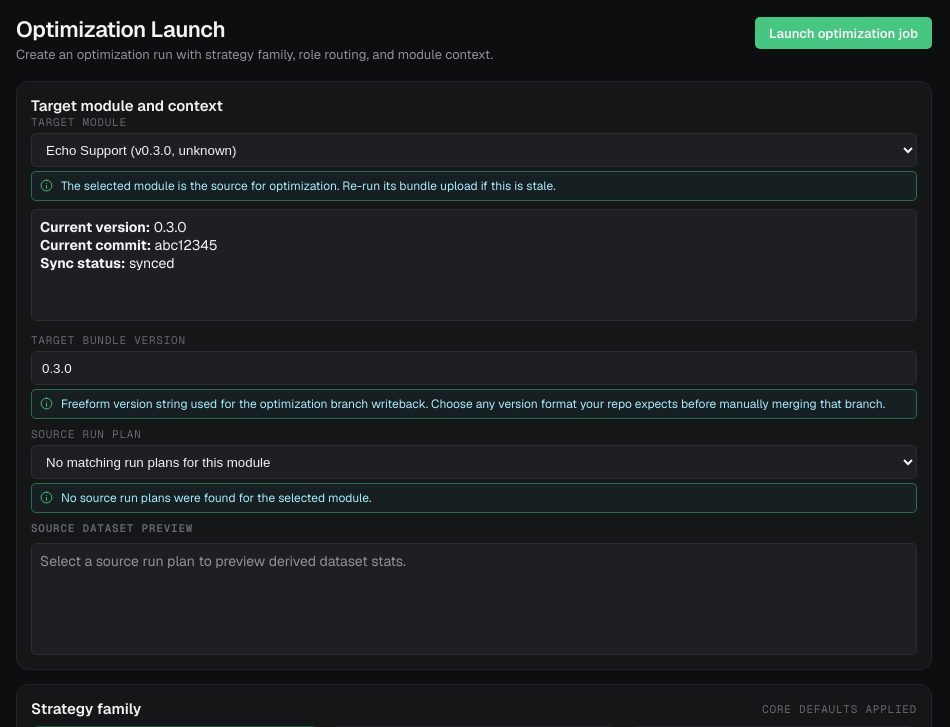
OptimizationLaunchPage › requires an execution LM profile before submit
The width and height of the screenshot is (950, 727).
Click the button "Launch optimization job".
click(843, 33)  # box [755, 17, 932, 49]
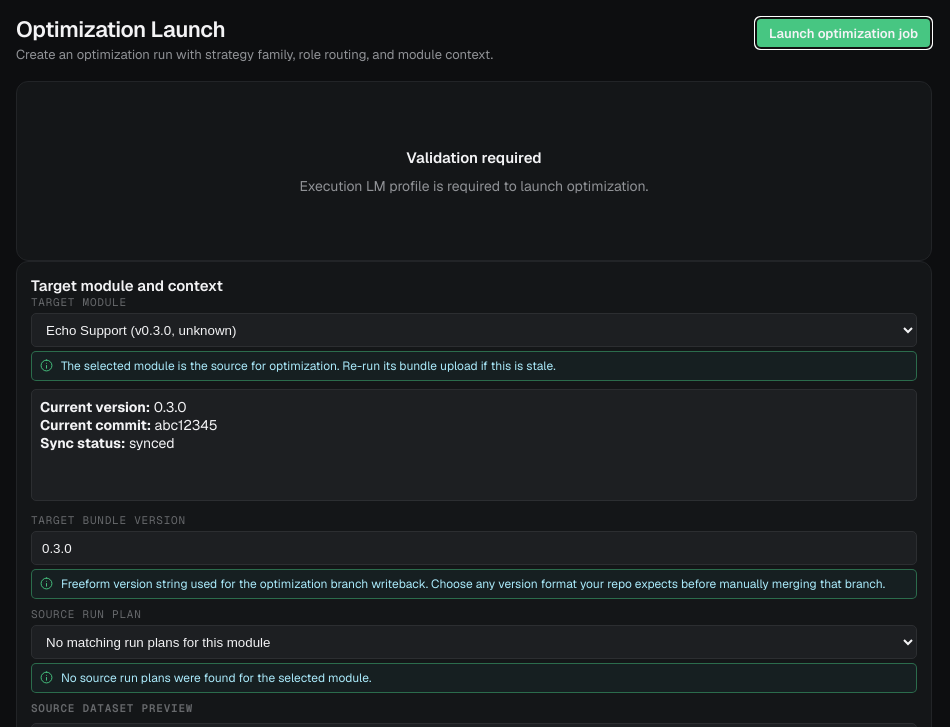
Expected: the text "Execution LM profile is required to launch optimization." is shown, [300, 177, 648, 195]
